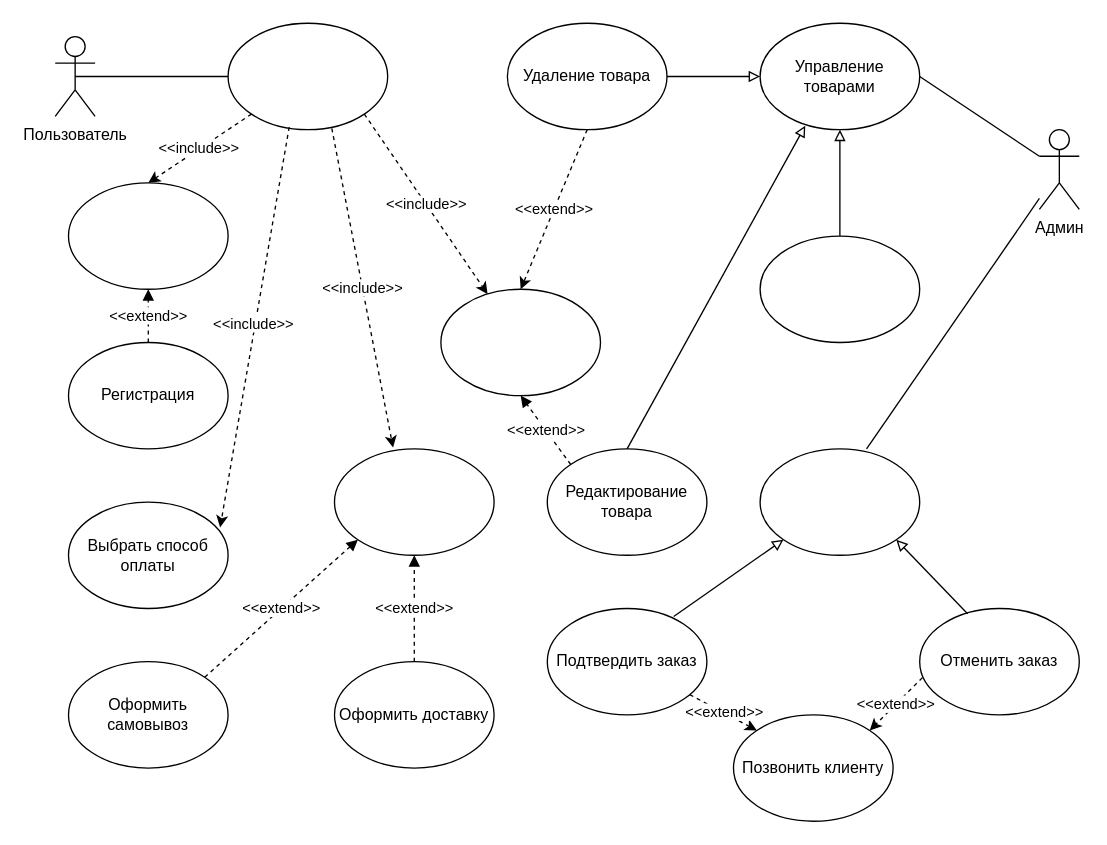
The diagram is 1107 pixels wide and 845 high, and some of its shapes have lost their labels. The shapes that lost their labels are listed below. From the top down, each one's centre as x and y in pixels, then its label:
At pixel 307 76: "Заказ товара".
At pixel 147 235: "Авторизация".
At pixel 839 288: "Добавление товара".
At pixel 520 342: "Поиск товара".
At pixel 413 501: "Выбрать способ получения заказа".
At pixel 839 501: "Управление заказами".
